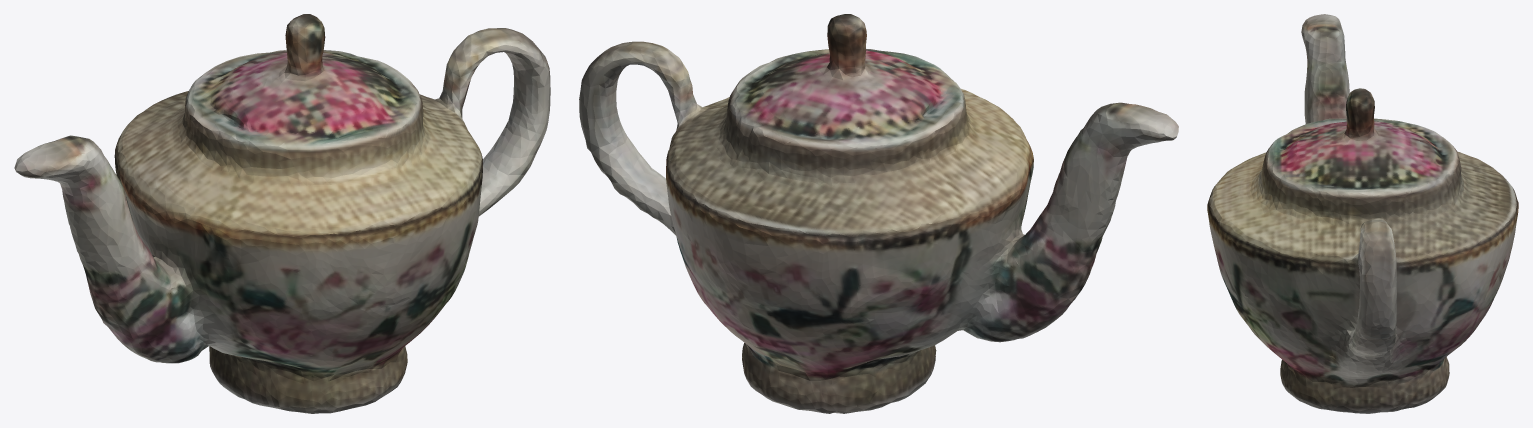
The model's file is mesh_scaled.obj.
3 renders of one model, left to right at view 1: azimuth 30°, elevation 25°; view 2: azimuth 150°, elevation 25°; view 3: azimuth 270°, elevation 25°, orthographic. The views are drawn at different scales.
Bounding box in the file's own units: 0.2024 × 0.1231 × 0.1192.
1 material, 1 textured.
